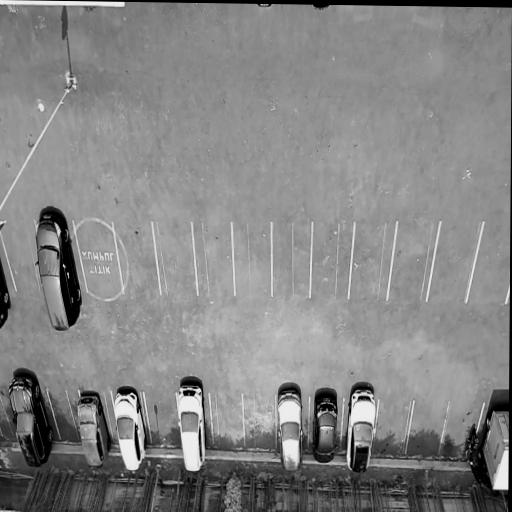Car: (30, 206, 86, 333), (5, 369, 59, 471), (109, 385, 152, 481), (471, 400, 509, 502), (174, 379, 210, 475), (74, 390, 115, 470), (344, 384, 379, 475), (277, 387, 307, 474), (310, 388, 341, 467), (0, 251, 14, 331)
Space Available: (428, 223, 483, 303), (388, 221, 439, 303), (73, 223, 123, 296), (467, 222, 510, 305), (350, 224, 396, 300), (113, 222, 160, 296), (153, 220, 197, 298), (311, 223, 353, 299), (273, 223, 312, 300), (193, 222, 233, 297), (233, 221, 271, 298), (0, 225, 42, 293), (373, 398, 413, 459), (406, 402, 448, 459), (143, 393, 180, 448), (48, 390, 82, 444), (210, 394, 244, 448), (243, 394, 275, 451), (0, 386, 17, 444)
